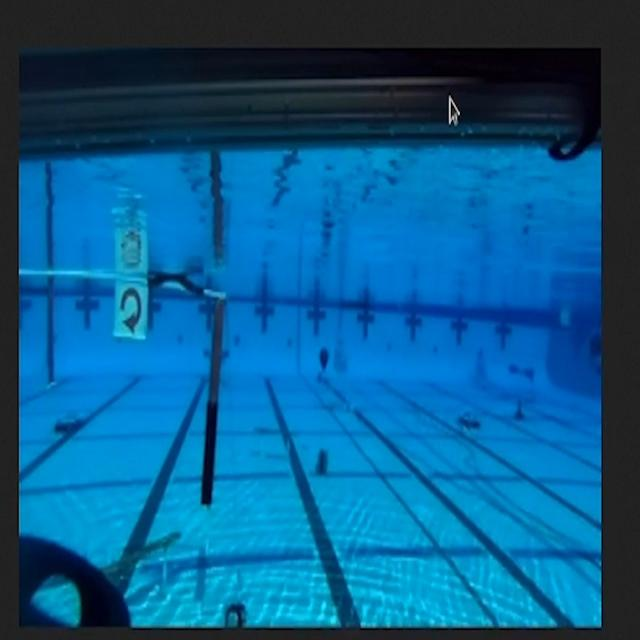Gate: (24, 254, 238, 521)
